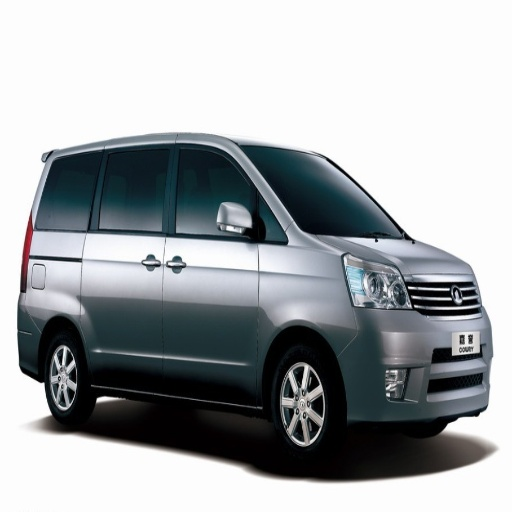front_bumper: (338, 277, 495, 423)
front_glass: (249, 148, 409, 239)
front_right_door: (162, 142, 263, 385)
front_right_light: (343, 256, 409, 310)
trunk: (30, 253, 72, 325)
